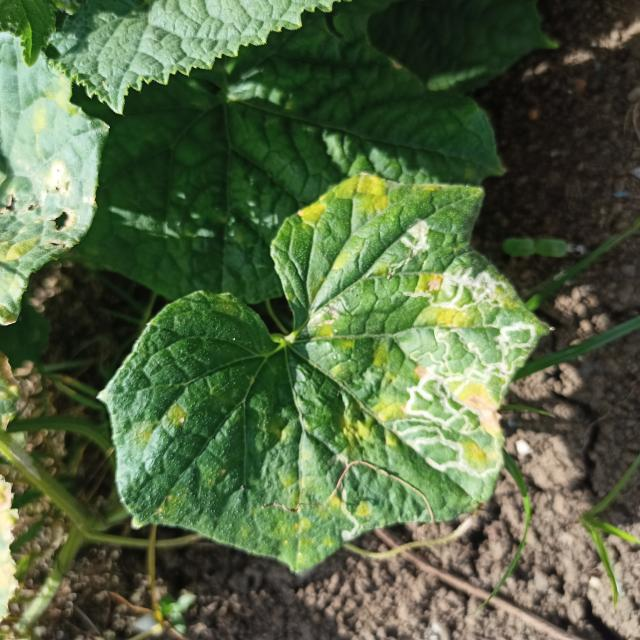disease_cucumber: (306, 274, 542, 477), (264, 422, 378, 554), (286, 170, 396, 272), (128, 398, 189, 443)
